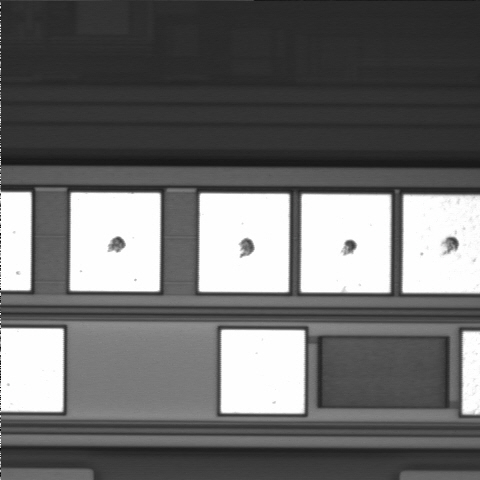pad: (199, 193, 289, 292), (301, 194, 391, 293), (70, 193, 160, 291), (221, 330, 305, 413)
